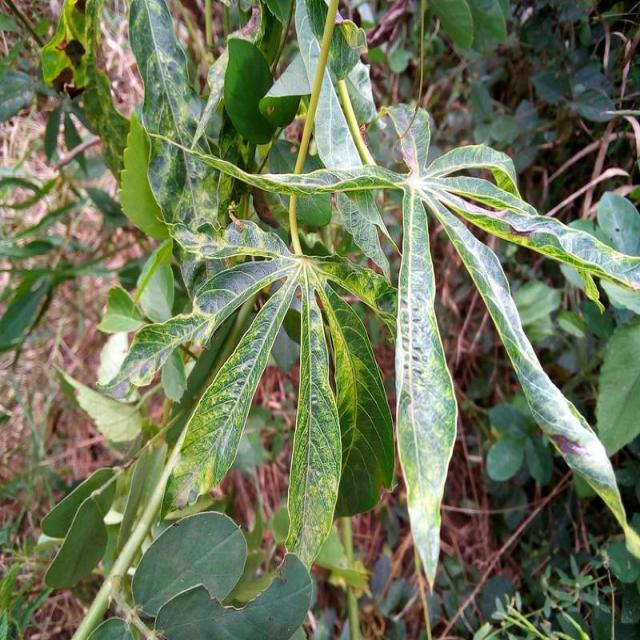cassava leaf: (40, 0, 638, 634)
